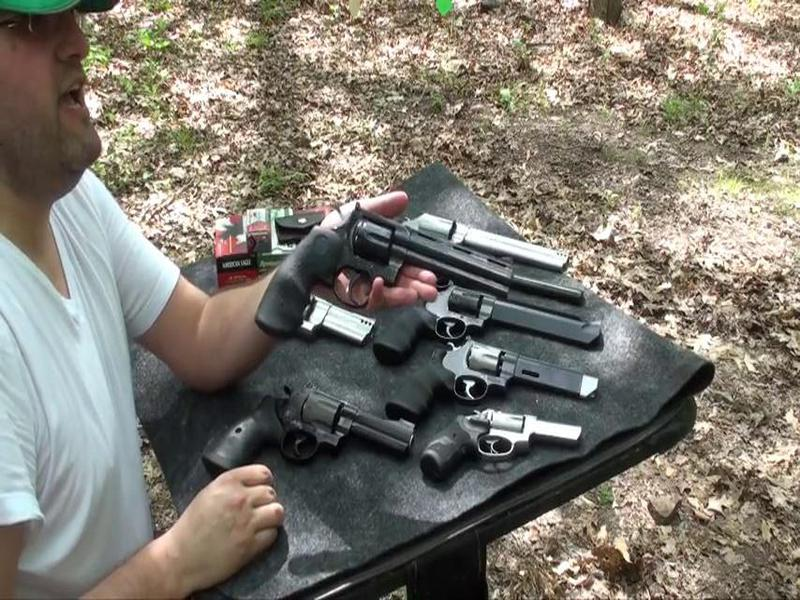Revolver: (260, 176, 511, 365)
